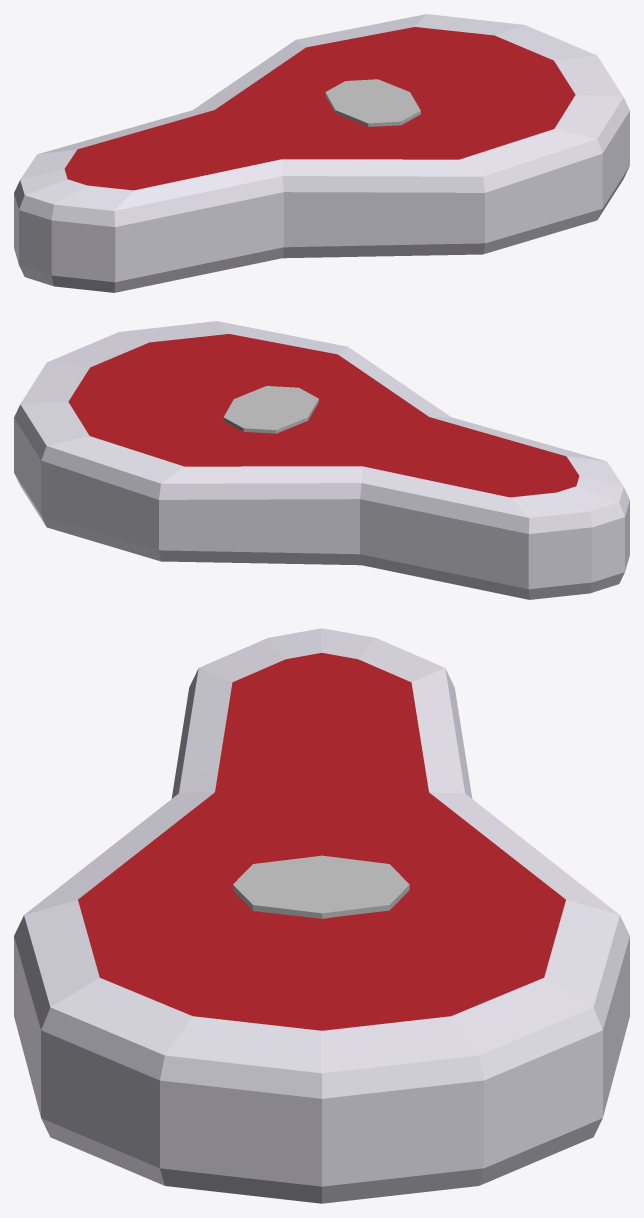
Rendered from Meat.fbx.
3 renders of one model, top to bottom at view 1: azimuth 30°, elevation 25°; view 2: azimuth 150°, elevation 25°; view 3: azimuth 270°, elevation 25°, orthographic. The views are drawn at different scales.
Visible parts, largest first — view 1: Meat; view 2: Meat; view 3: Meat.
Part boxes in pixels (left/top/right/bottom): Meat: left=14, top=14, right=629, bottom=292; Meat: left=14, top=321, right=629, bottom=599; Meat: left=14, top=628, right=629, bottom=1203.
Bounding box in the file's own units: 0.345 × 0.0564 × 0.1979.
